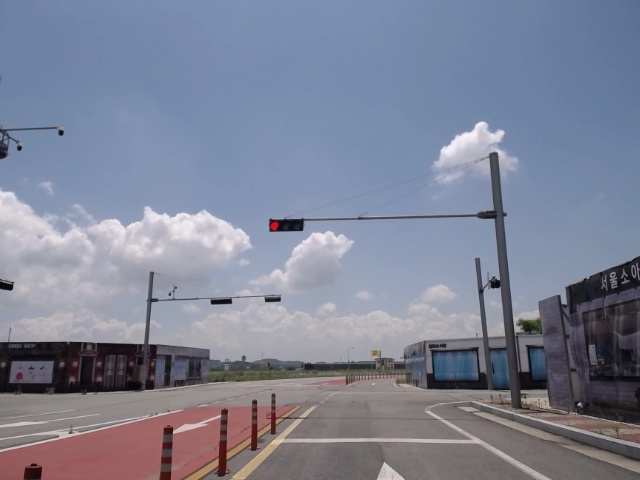red_3: (268, 218, 306, 233)
